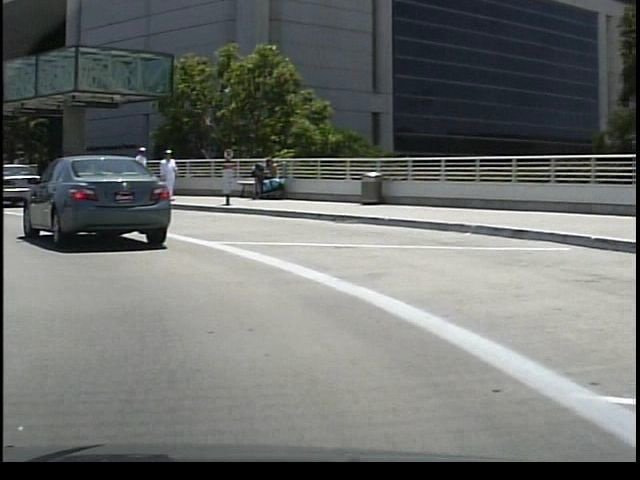person: (49, 148, 75, 213), (153, 146, 175, 203), (126, 143, 147, 200)
